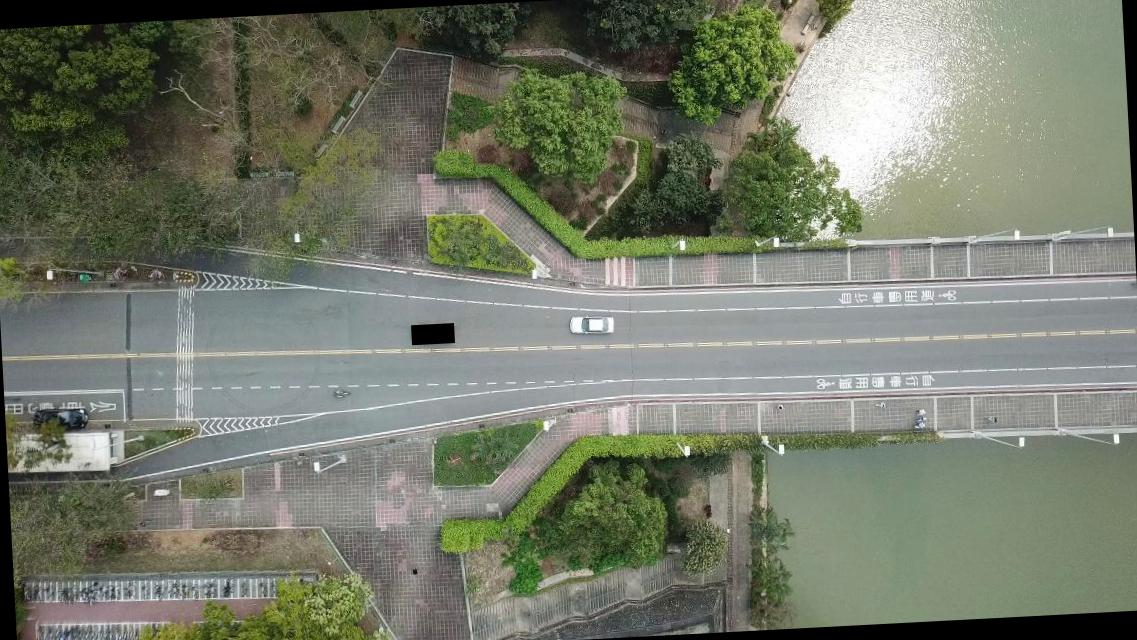vehicle: (31, 407, 88, 432), (568, 313, 612, 335)
